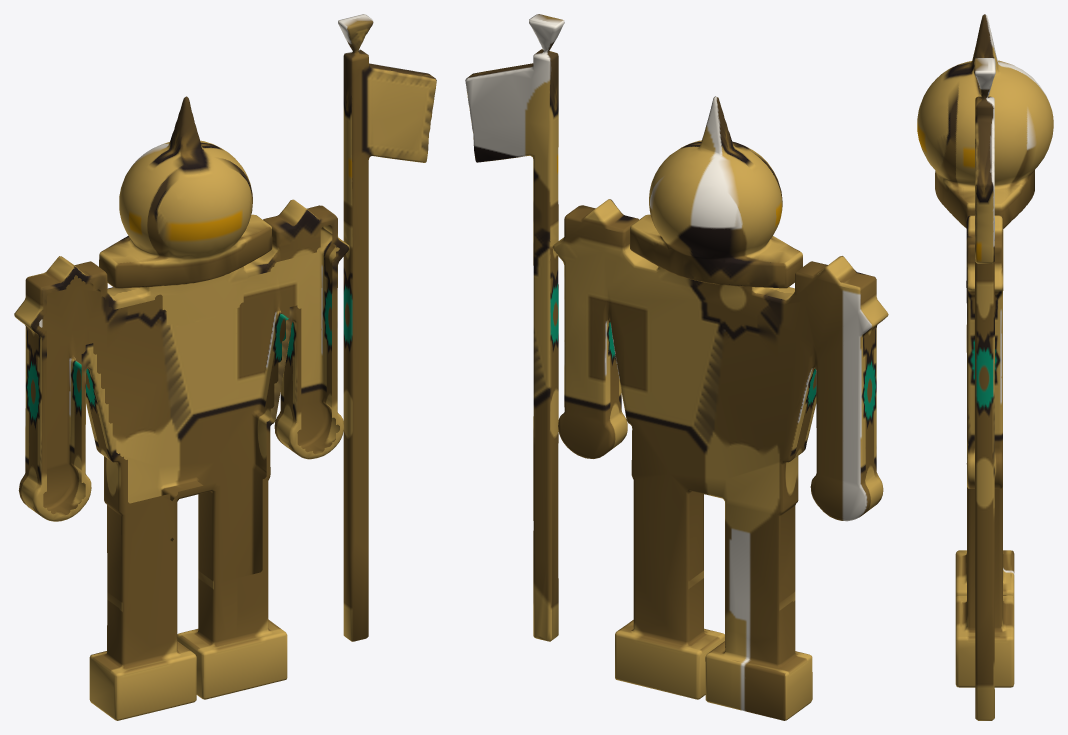
File: Sentinel.glb
3 views of the same model, side by side, from view 1: azimuth 30°, elevation 25°; view 2: azimuth 150°, elevation 25°; view 3: azimuth 270°, elevation 25° (orthographic). The views are drawn at different scales.
Visible parts, largest first — view 1: Sentinel; view 2: Sentinel; view 3: Sentinel.
Boxes of the visible parts, x1,y1,x2,y2 form: Sentinel: (14,14,436,720); Sentinel: (465,14,888,720); Sentinel: (917,14,1053,720).
Size of the model in its own units: 2.74 by 4 by 0.7438.
1 material, 1 textured.
